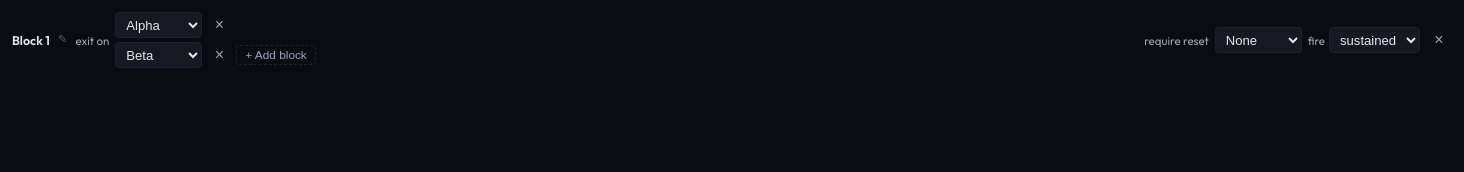
Scenario: BlockHeader — exit multi-target picker › keeps an opened empty row when a SIBLING row's value changes (R3)
Click the button with test id "add-target-0".
click(276, 55)  # box [236,45,316,65]
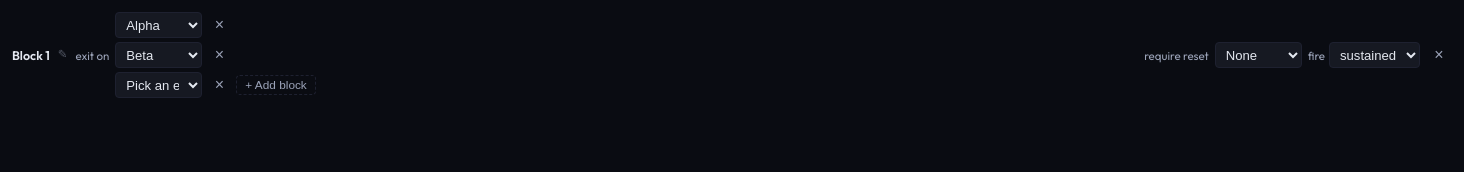
expect the dropdown with test id "target-entry-select-0-2" shows "Pick an entry…": met, box [115,72,202,98]
Select "Gamma" in the dropdown with test id "target-entry-select-0-0" at (159, 25), box [115,12,202,38]
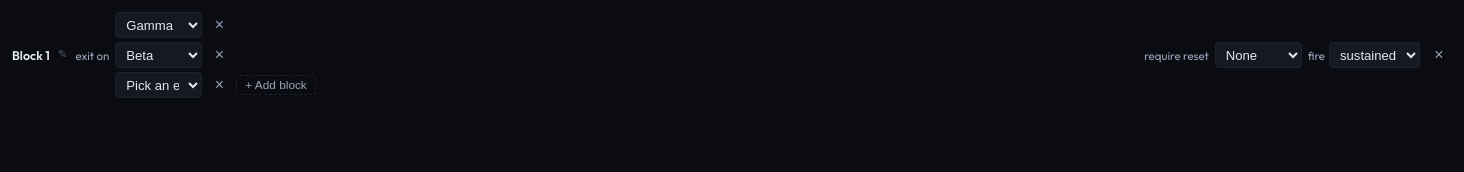
expect the dropdown with test id "target-entry-select-0-1" shows "Beta": met, box [115,42,202,68]
expect the dropdown with test id "target-entry-select-0-2" shows "Pick an entry…": met, box [115,72,202,98]
expect the dropdown with test id "target-entry-select-0-0" shows "Gamma": met, box [115,12,202,38]
